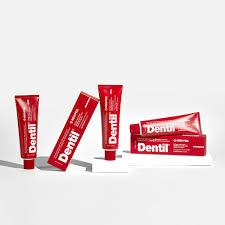toothpaste: (11, 91, 46, 177), (94, 78, 128, 161), (122, 107, 204, 138)
